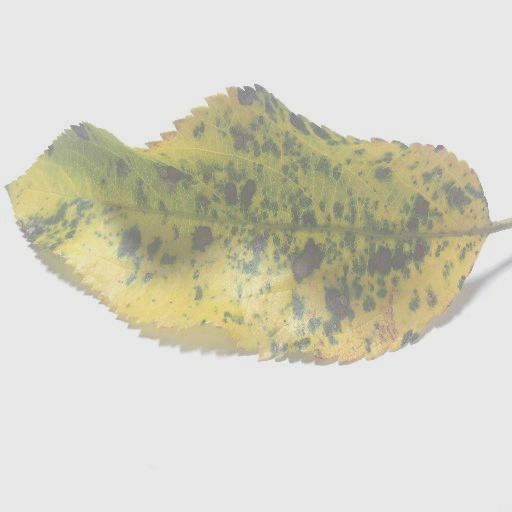Brown_Spot: (367, 237, 429, 274), (289, 245, 327, 282), (220, 178, 258, 211), (159, 163, 195, 187), (324, 291, 349, 321), (407, 198, 443, 218), (190, 228, 216, 252)
